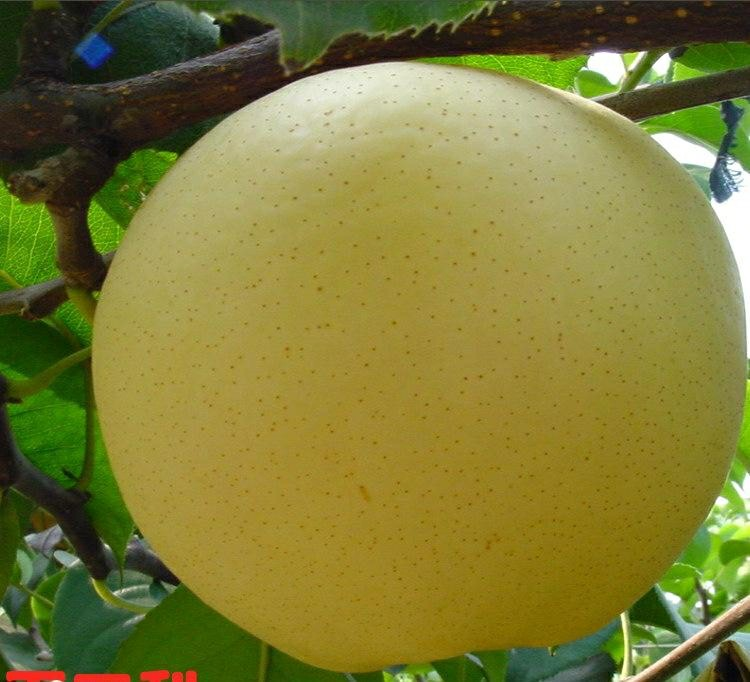pear: (87, 61, 746, 672)
